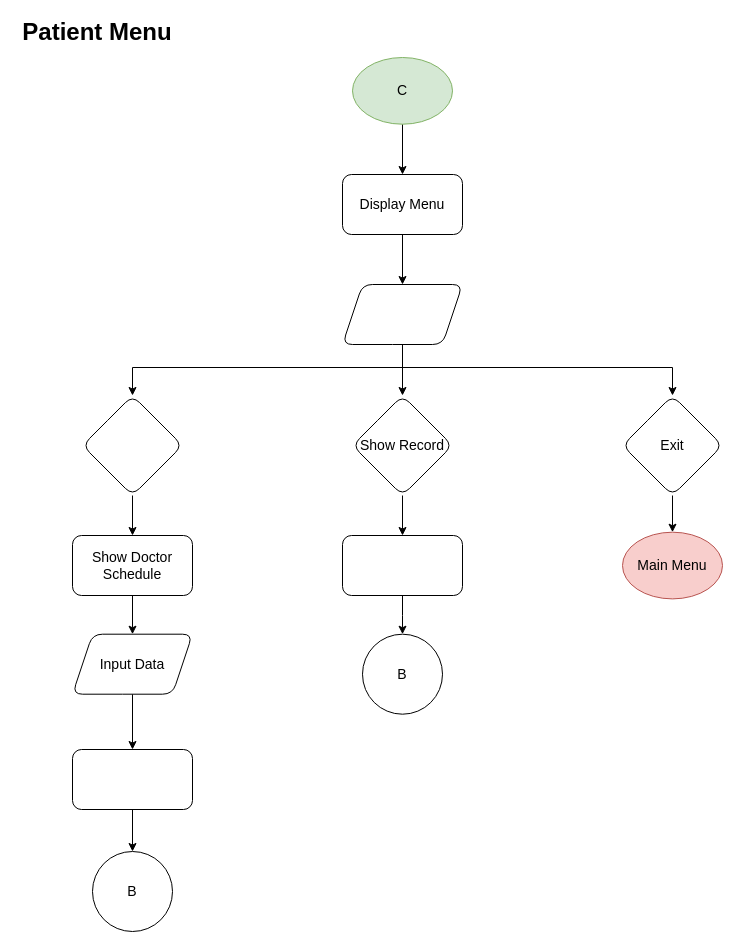
Image size: 740x949. Some labels were removed from this diagram. Each missing label, with the box of its shape:
Create Medical Record & Update Doctor Schedule: (72, 748, 192, 810)
Input Menu: (342, 284, 462, 344)
Make an Appointment: (82, 394, 182, 496)
Show Medical Record: (342, 534, 462, 596)
